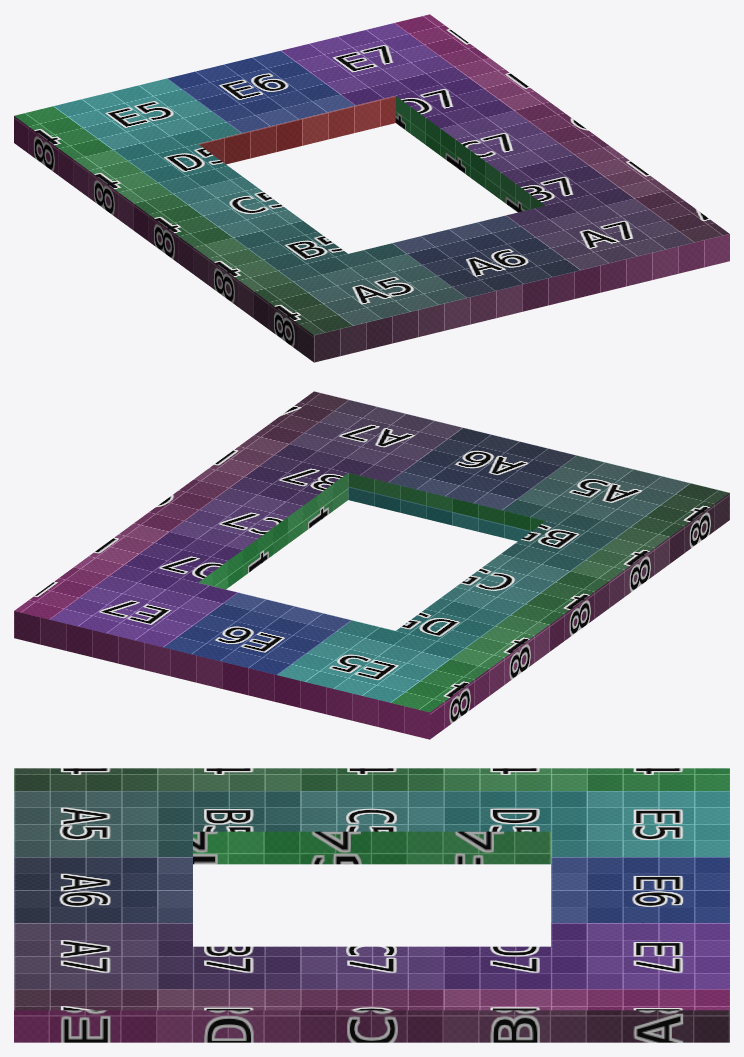
File: Magnet Test.fbx
3 views of the same model, one above another, from view 1: azimuth 30°, elevation 25°; view 2: azimuth 150°, elevation 25°; view 3: azimuth 270°, elevation 25° (orthographic). The views are drawn at different scales.
Parts seen in each view (by area): view 1: Cube; view 2: Cube; view 3: Cube.
Boxes of the visible parts, x1=… form: Cube: x1=14, y1=14, x2=729, y2=362; Cube: x1=14, y1=391, x2=729, y2=739; Cube: x1=14, y1=768, x2=729, y2=1042.
Bounding box in the file's own units: 16 × 1 × 20.
Materials: 1 (1 with a texture image).
